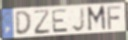D: (15, 10, 33, 37)
E: (51, 9, 70, 34)
F: (106, 5, 123, 31)
J: (71, 7, 86, 33)
M: (86, 5, 108, 33)
Z: (32, 9, 52, 36)
